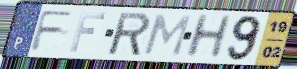9: (225, 14, 264, 63)
F: (28, 10, 77, 53), (67, 11, 108, 54)
H: (182, 13, 235, 60)
M: (141, 13, 194, 58)
R: (107, 11, 152, 58)
